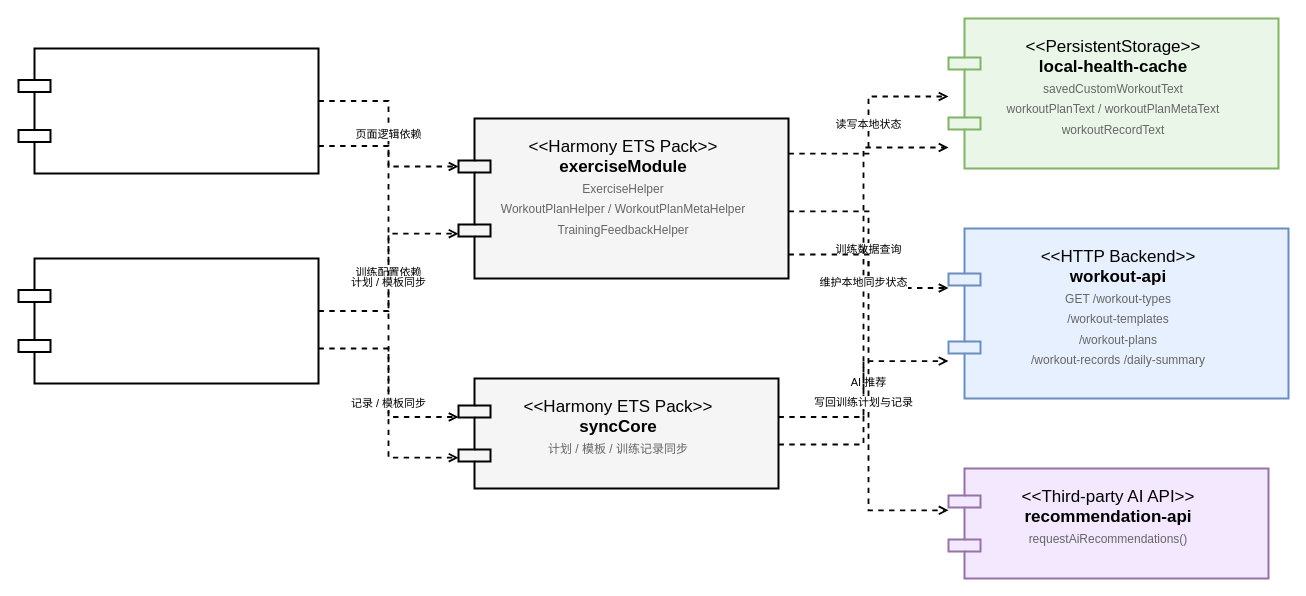
The diagram is 1306 pixels wide and 596 high, and some of its shapes have lost their labels. The centre of each missing label's shape, as x and y in pixels:
<<Harmony ETS Page>> ExerciseDetailPage.ets 训练计时 / 模板保存 / 记录完成: (x=168, y=320)
<<Harmony ETS Page>> ExerciseTabPage.ets 计划日历 / 模板管理 / AI 推荐: (x=168, y=110)
